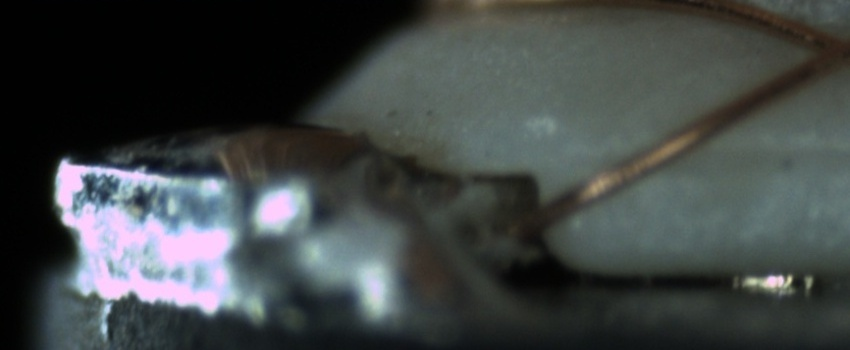CL: (779, 14, 849, 80)
DL: (636, 113, 849, 193)
